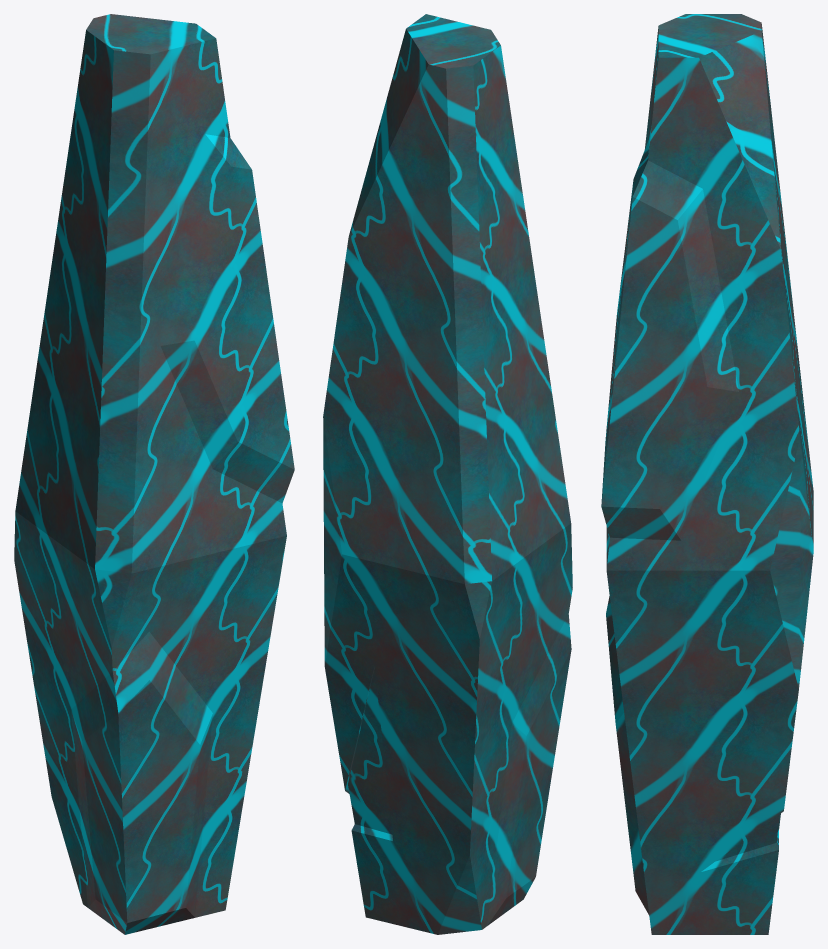
The model's file is Wasser_kristall.glb.
The picture shows the model from 3 angles, left to right: view 1: azimuth 30°, elevation 25°; view 2: azimuth 150°, elevation 25°; view 3: azimuth 270°, elevation 25°; orthographic projection.
Parts seen in each view (by area): view 1: Wasser_kristall; view 2: Wasser_kristall; view 3: Wasser_kristall.
Boxes of the visible parts, x1,y1,x2,y2 form: Wasser_kristall: (14, 14, 294, 934); Wasser_kristall: (323, 14, 572, 934); Wasser_kristall: (601, 14, 813, 934).
Size of the model in its own units: 0.3011 by 1.36 by 0.2998.
1 material, 1 textured.
